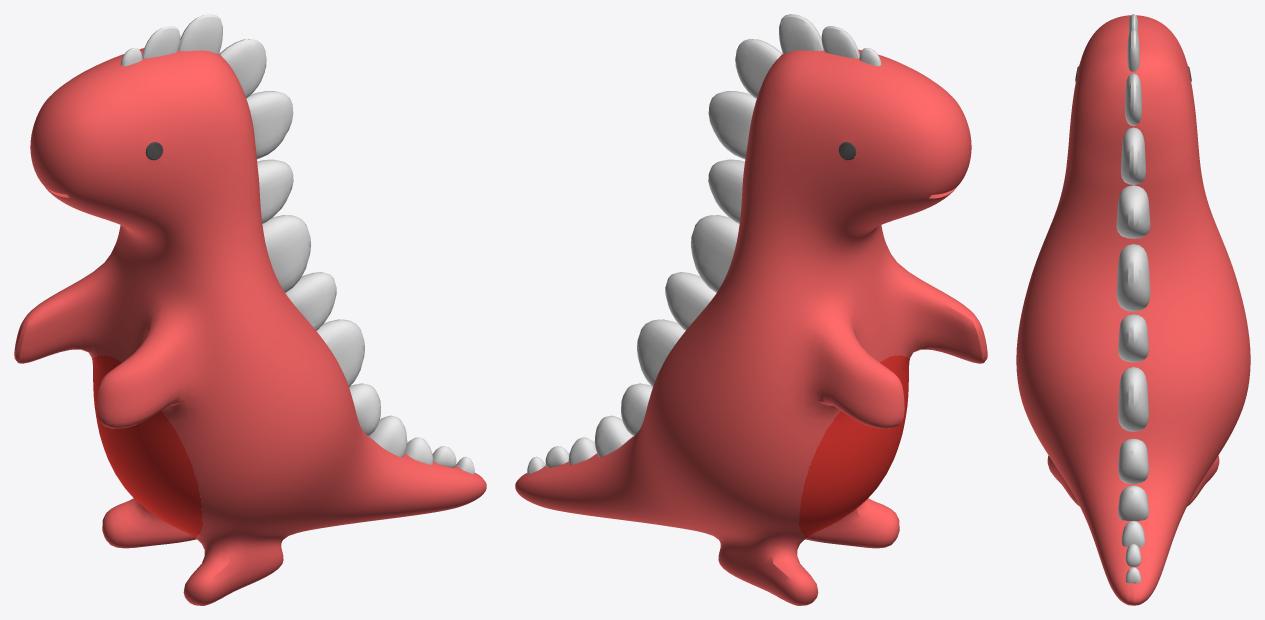
Rendered from CuteRedDino.glb.
The picture shows the model from 3 angles, left to right: view 1: azimuth 30°, elevation 25°; view 2: azimuth 150°, elevation 25°; view 3: azimuth 270°, elevation 25°; orthographic projection. The views are drawn at different scales.
Parts seen in each view (by area): view 1: dino.001; view 2: dino.001; view 3: dino.001.
Boxes of the visible parts, x1=… form: dino.001: x1=14, y1=14, x2=486, y2=605; dino.001: x1=515, y1=14, x2=987, y2=605; dino.001: x1=1016, y1=14, x2=1250, y2=605.
Bounding box in the file's own units: 1.31 × 1.54 × 0.7005.
